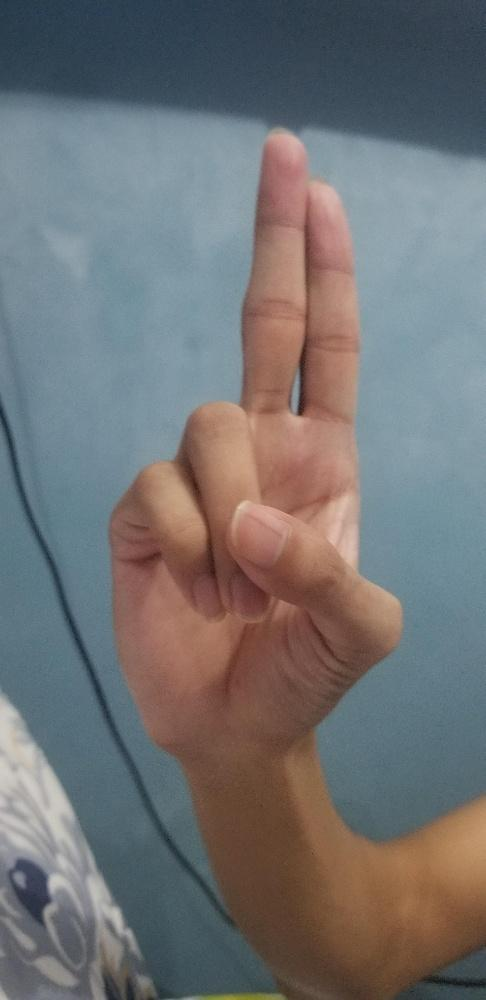u: (104, 122, 404, 769)
